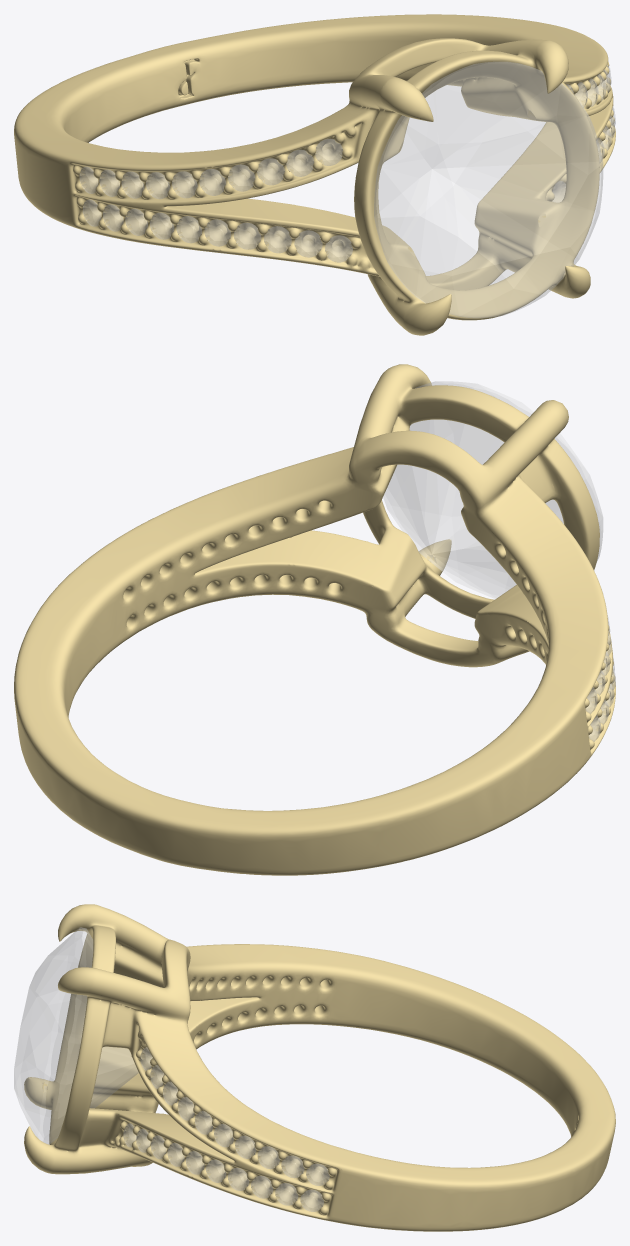
The picture shows the model from 3 angles, top to bottom: view 1: azimuth 30°, elevation 25°; view 2: azimuth 150°, elevation 25°; view 3: azimuth 270°, elevation 25°; orthographic projection. The views are drawn at different scales.
Visible parts, largest first — view 1: Metal_01(46D0367F-EAAC-4738-8367-29F19A4CC4D5), Diamond_Round(FAB08196-BAFC-470A-8EE7-33E182F59F20), Diamond_Round(FAB08196-BAFC-470A-8EE7-33E182F59F20)_10, Diamond_Round(FAB08196-BAFC-470A-8EE7-33E182F59F20)_9, Diamond_Round(FAB08196-BAFC-470A-8EE7-33E182F59F20)_13, Diamond_Round(FAB08196-BAFC-470A-8EE7-33E182F59F20)_8, Diamond_Round(FAB08196-BAFC-470A-8EE7-33E182F59F20)_12, Diamond_Round(FAB08196-BAFC-470A-8EE7-33E182F59F20)_14, Diamond_Round(FAB08196-BAFC-470A-8EE7-33E182F59F20)_7, Diamond_Round(FAB08196-BAFC-470A-8EE7-33E182F59F20)_15, Diamond_Round(FAB08196-BAFC-470A-8EE7-33E182F59F20)_6, Diamond_Round(FAB08196-BAFC-470A-8EE7-33E182F59F20)_16 (+6 smaller); view 2: Metal_01(46D0367F-EAAC-4738-8367-29F19A4CC4D5), Diamond_Round(FAB08196-BAFC-470A-8EE7-33E182F59F20); view 3: Metal_01(46D0367F-EAAC-4738-8367-29F19A4CC4D5), Diamond_Round(FAB08196-BAFC-470A-8EE7-33E182F59F20).
Part boxes in pixels (bbox=[...]): Metal_01(46D0367F-EAAC-4738-8367-29F19A4CC4D5): bbox=[14, 14, 615, 335]; Diamond_Round(FAB08196-BAFC-470A-8EE7-33E182F59F20): bbox=[374, 62, 602, 317]; Diamond_Round(FAB08196-BAFC-470A-8EE7-33E182F59F20)_10: bbox=[325, 235, 352, 262]; Diamond_Round(FAB08196-BAFC-470A-8EE7-33E182F59F20)_9: bbox=[294, 230, 322, 257]; Diamond_Round(FAB08196-BAFC-470A-8EE7-33E182F59F20)_13: bbox=[286, 150, 313, 176]; Diamond_Round(FAB08196-BAFC-470A-8EE7-33E182F59F20)_8: bbox=[264, 226, 291, 252]; Diamond_Round(FAB08196-BAFC-470A-8EE7-33E182F59F20)_12: bbox=[315, 139, 342, 165]; Diamond_Round(FAB08196-BAFC-470A-8EE7-33E182F59F20)_14: bbox=[257, 158, 284, 184]; Diamond_Round(FAB08196-BAFC-470A-8EE7-33E182F59F20)_7: bbox=[234, 223, 260, 249]; Diamond_Round(FAB08196-BAFC-470A-8EE7-33E182F59F20)_15: bbox=[228, 164, 254, 191]; Diamond_Round(FAB08196-BAFC-470A-8EE7-33E182F59F20)_6: bbox=[204, 219, 230, 246]; Diamond_Round(FAB08196-BAFC-470A-8EE7-33E182F59F20)_16: bbox=[199, 169, 225, 195]; Metal_01(46D0367F-EAAC-4738-8367-29F19A4CC4D5): bbox=[14, 364, 615, 875]; Diamond_Round(FAB08196-BAFC-470A-8EE7-33E182F59F20): bbox=[383, 381, 602, 598]; Metal_01(46D0367F-EAAC-4738-8367-29F19A4CC4D5): bbox=[24, 904, 615, 1231]; Diamond_Round(FAB08196-BAFC-470A-8EE7-33E182F59F20): bbox=[14, 927, 138, 1144].
Bounding box in the file's own units: 0.0213 × 0.0101 × 0.025.
